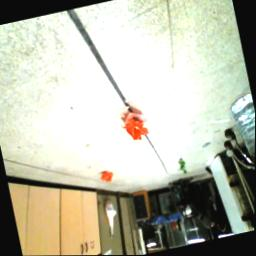herb: (175, 156, 190, 177)
wild: (120, 117, 152, 145), (98, 170, 116, 186)
